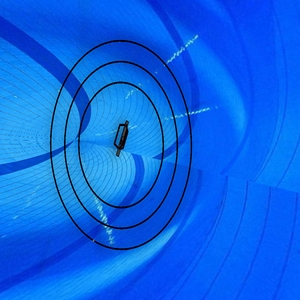circle: (48, 36, 197, 253)
submarine: (109, 119, 137, 160)
